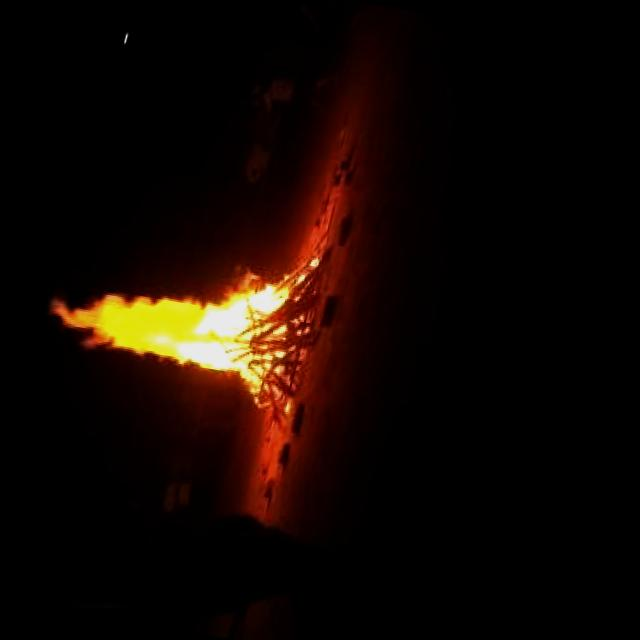helmet: (38, 241, 293, 404)
